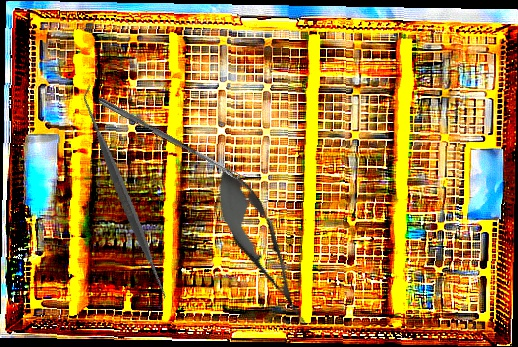Micro Scissor: (200, 157, 324, 336)
Spatula Surgical: (12, 84, 237, 309)
Surgical Spoon: (95, 96, 241, 181)
